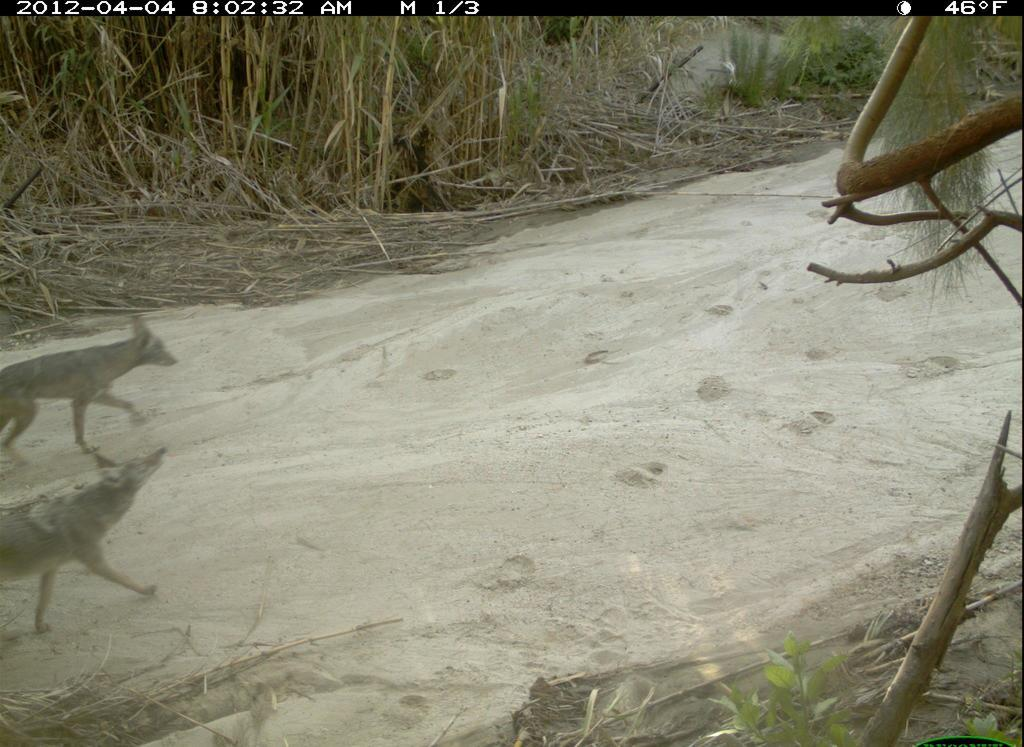coyote: (4, 447, 180, 632), (6, 312, 185, 463)
